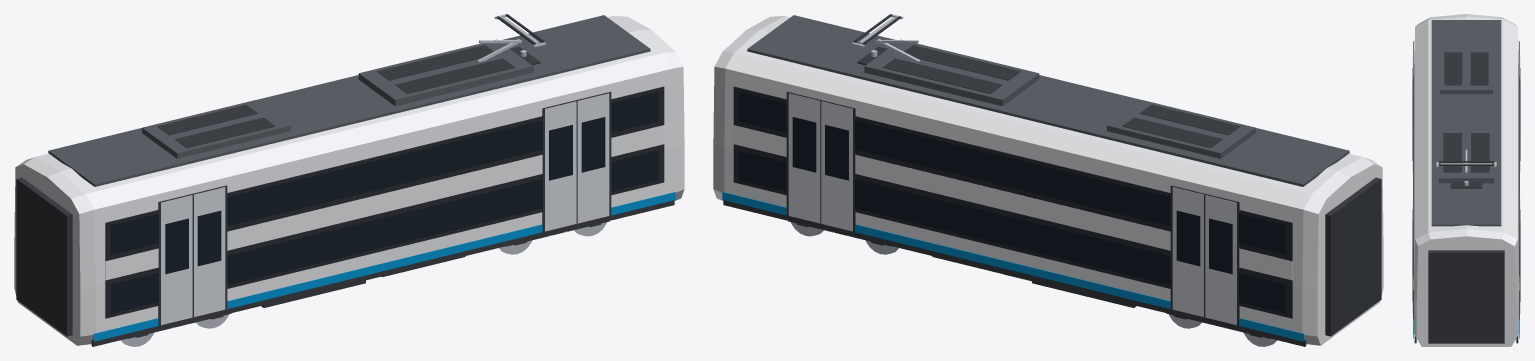
Rendered from rer_e_rerng_car.glb.
3 renders of one model, left to right at view 1: azimuth 30°, elevation 25°; view 2: azimuth 150°, elevation 25°; view 3: azimuth 270°, elevation 25°, orthographic. The views are drawn at different scales.
Parts seen in each view (by area): view 1: rer_e_rerng_neutral; view 2: rer_e_rerng_neutral; view 3: rer_e_rerng_neutral.
Part boxes in pixels (box(x1,y1,x2,y2)): rer_e_rerng_neutral: box(14, 14, 684, 346); rer_e_rerng_neutral: box(713, 14, 1383, 346); rer_e_rerng_neutral: box(1412, 14, 1520, 346).
Bounding box in the file's own units: 15.14 × 4.88 × 3.06.
